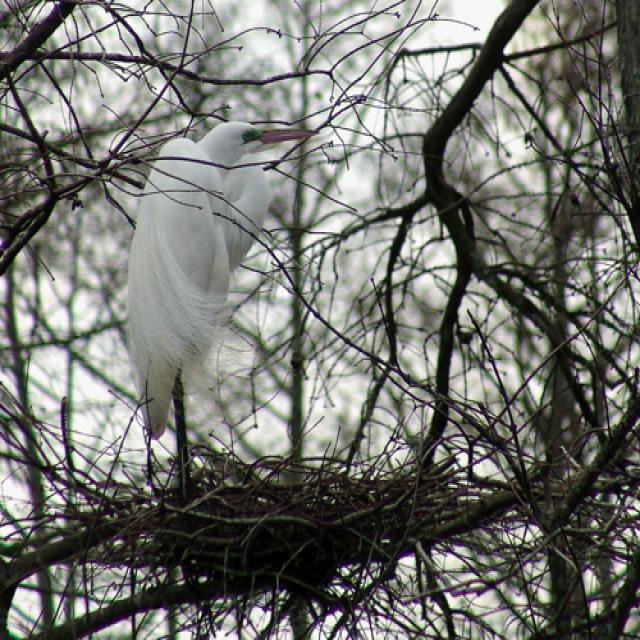bird: (131, 115, 323, 435)
